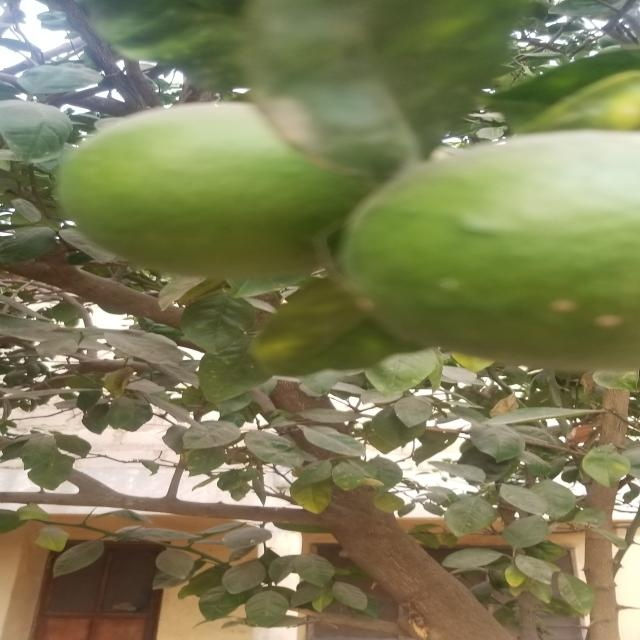agrume: (330, 125, 640, 373)
